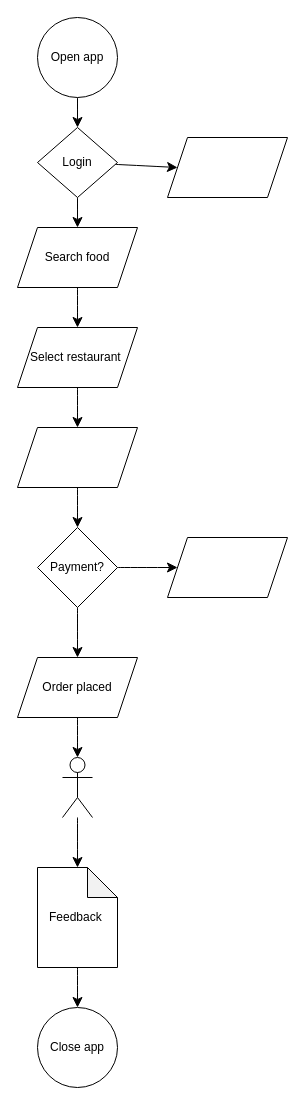
The diagram is 305 pixels wide and 1105 high, and some of its shapes have lost their labels. Each missing label, with the centre of its shape:
"Actor" goes at pixel 77 787.
"Place order" goes at pixel 77 457.
"Sign in/try again" goes at pixel 227 167.
"Try again" goes at pixel 227 567.
